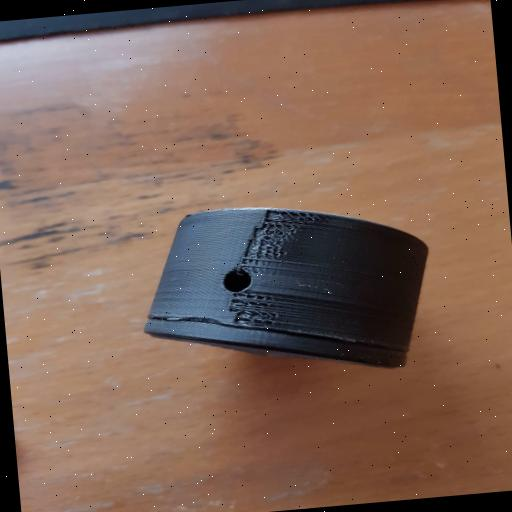cracks: (131, 307, 402, 364)
